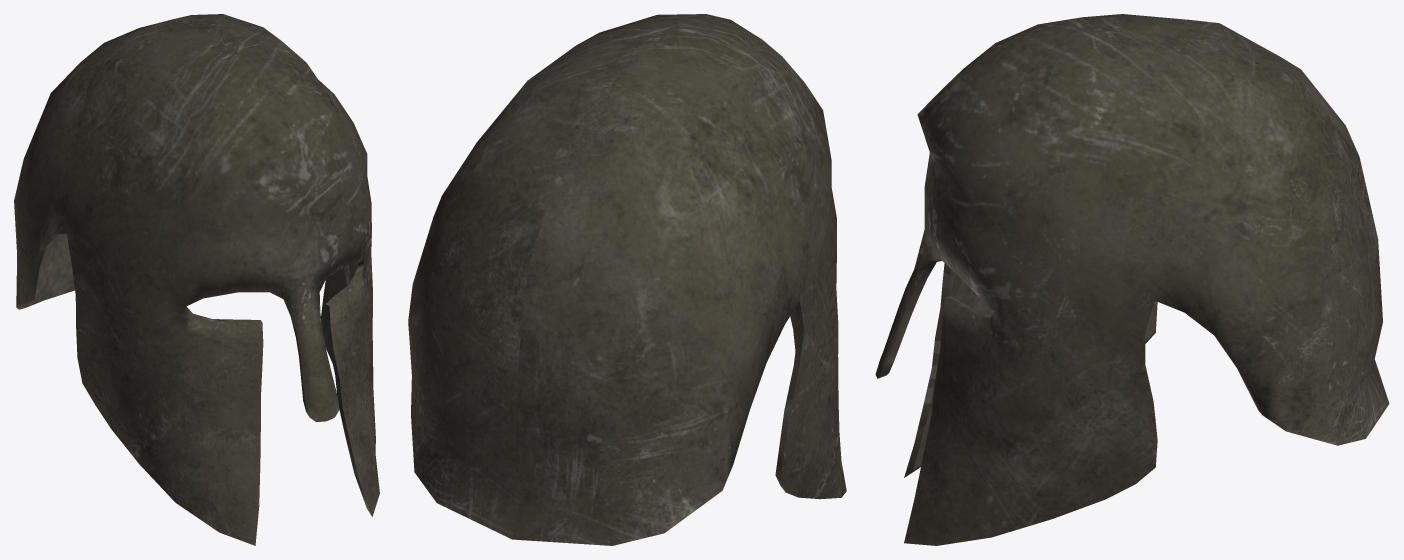
Rendered from greek_helmet_v2.glb.
The picture shows the model from 3 angles, left to right: view 1: azimuth 30°, elevation 25°; view 2: azimuth 150°, elevation 25°; view 3: azimuth 270°, elevation 25°; orthographic projection. The views are drawn at different scales.
Visible parts, largest first — view 1: Rotopo_2; view 2: Rotopo_2; view 3: Rotopo_2.
Part boxes in pixels (bbox=[...]): Rotopo_2: bbox=[14, 14, 379, 545]; Rotopo_2: bbox=[408, 14, 846, 545]; Rotopo_2: bbox=[875, 14, 1389, 545].
Bounding box in the file's own units: 2.04 × 2.99 × 2.89.
Materials: 1 (1 with a texture image).
